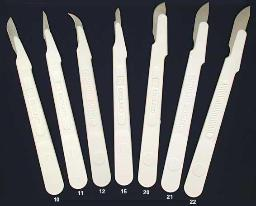scalpel: (184, 4, 252, 198), (6, 17, 64, 195), (162, 1, 210, 193), (42, 11, 88, 189), (66, 13, 112, 187), (136, 1, 168, 189), (111, 8, 135, 186)
